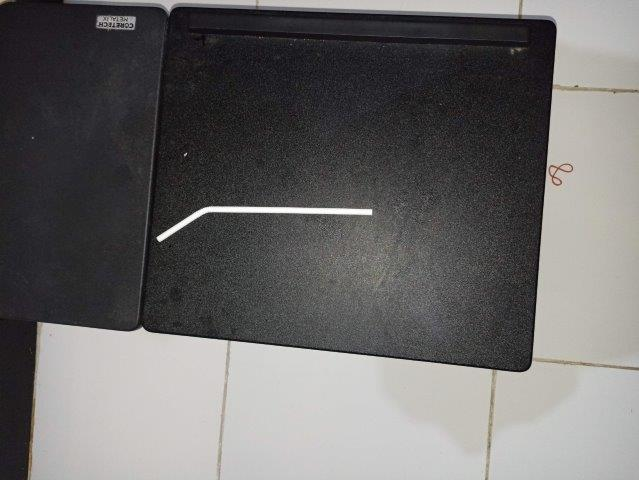karet: (548, 163, 573, 186)
sedotan: (157, 206, 373, 243)
